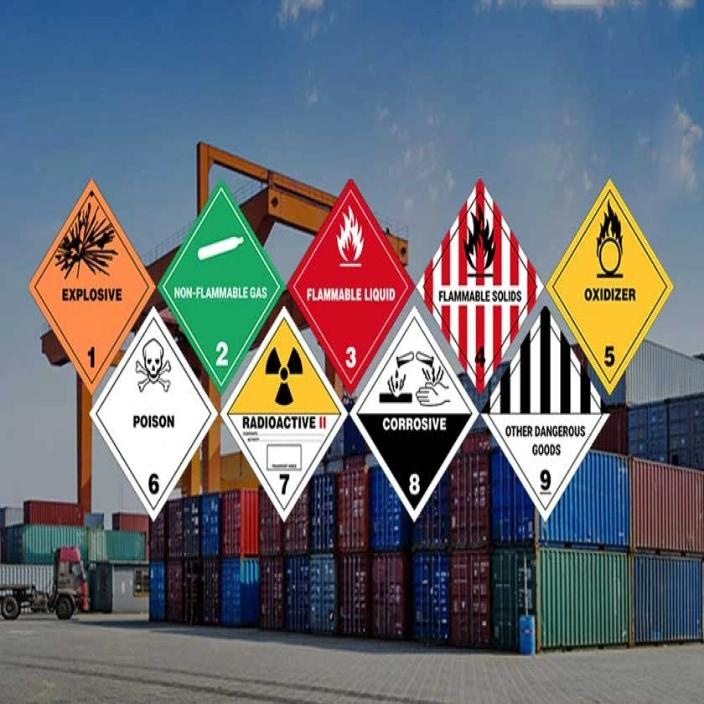bathroom sign: (30, 179, 153, 392)
building map: (158, 181, 282, 392)
can and bottle trash cans: (288, 179, 411, 392)
chair: (417, 179, 542, 392)
defibrillator: (547, 179, 672, 392)
door: (91, 308, 217, 518)
doorway: (221, 308, 346, 519)
elevator buttons: (351, 306, 477, 521)
elevator doors: (482, 306, 608, 519)
